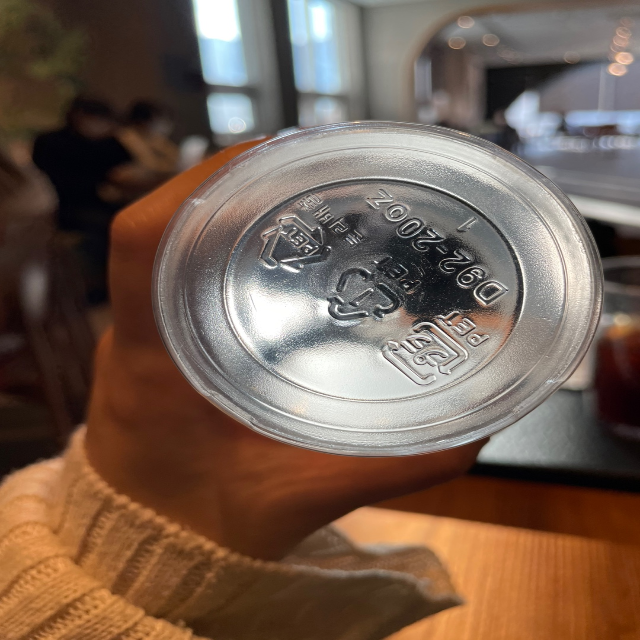pet: (259, 186, 363, 278), (380, 307, 493, 384), (321, 254, 423, 330)
